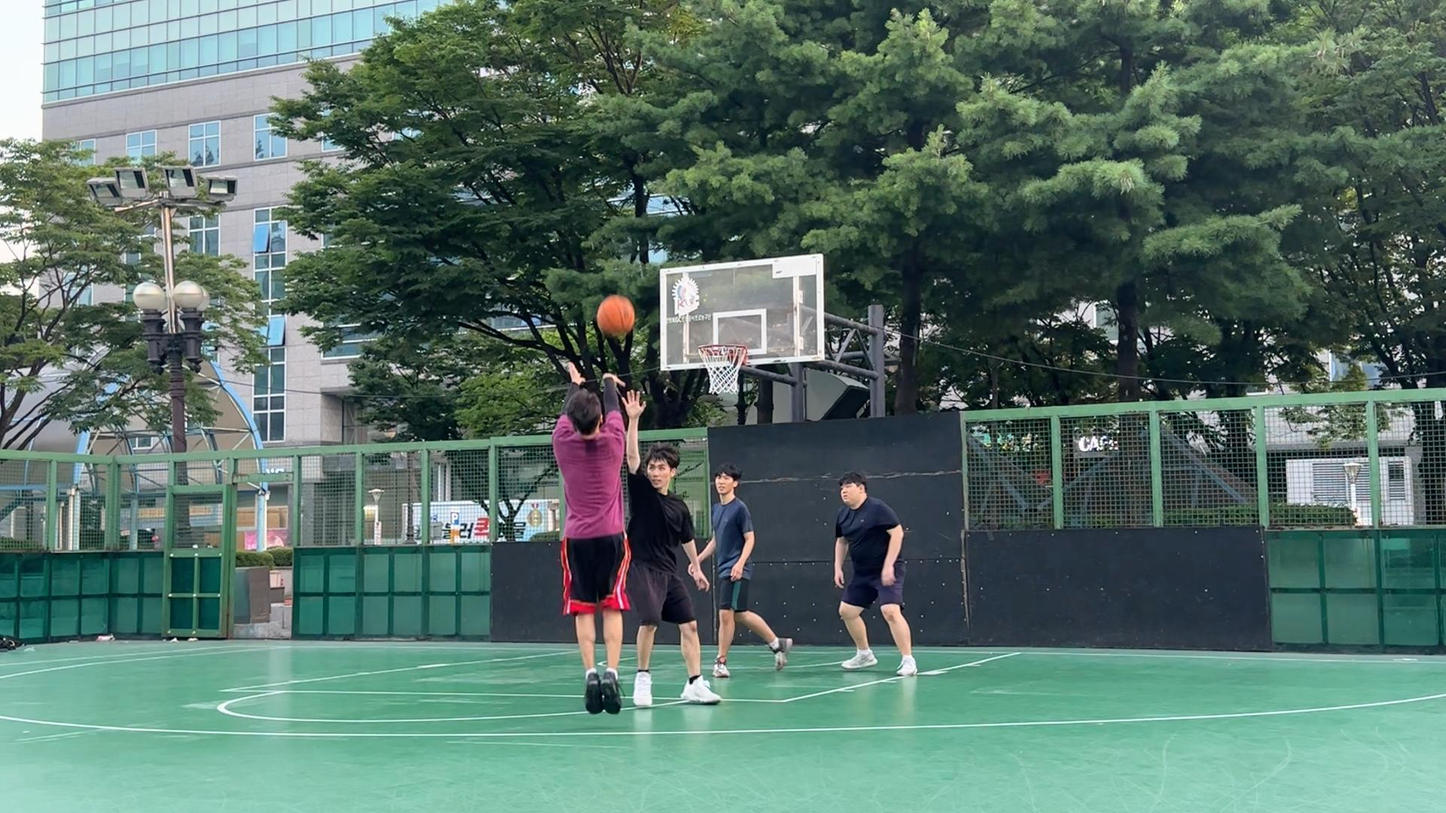ball: (596, 294, 636, 338)
human: (621, 389, 721, 708), (552, 361, 631, 714), (688, 463, 795, 678), (832, 470, 917, 677)
rim: (698, 343, 747, 395)
